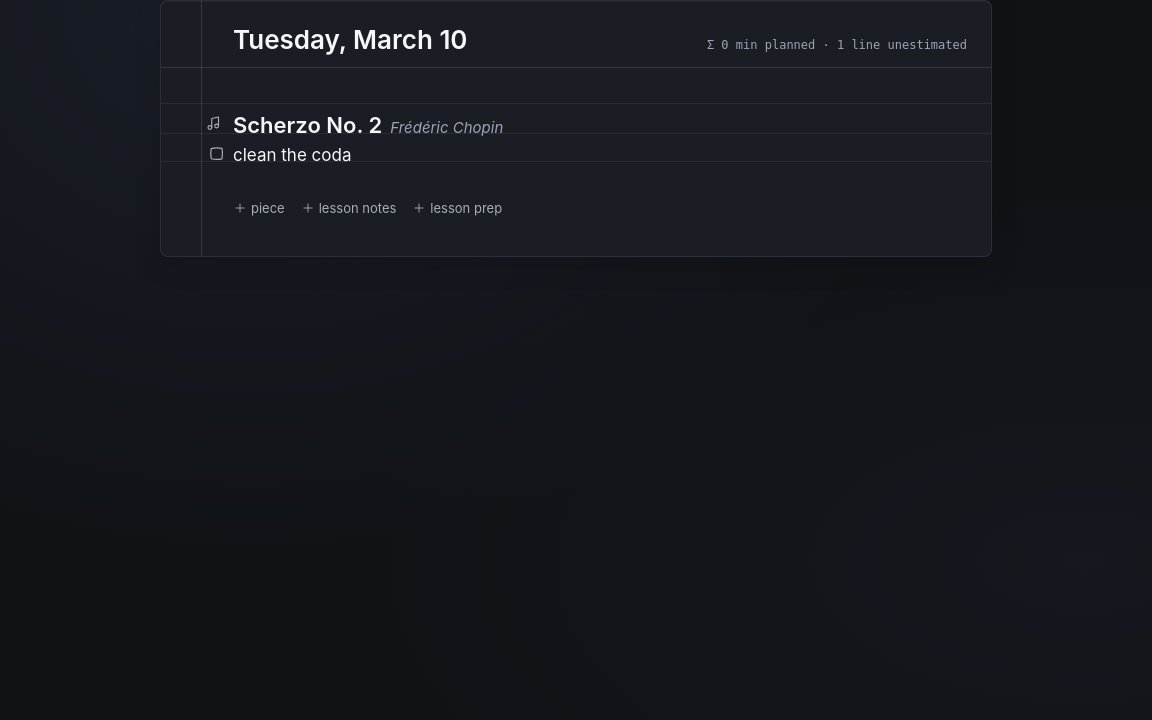
it: DaySheet — goal promotion (spec 13) › promotes a plan item via goal_create with the right args, then renders a goal_ref
Step 1. Focus the text box showing "clean the coda" → (600, 155), box [233,140,967,170]
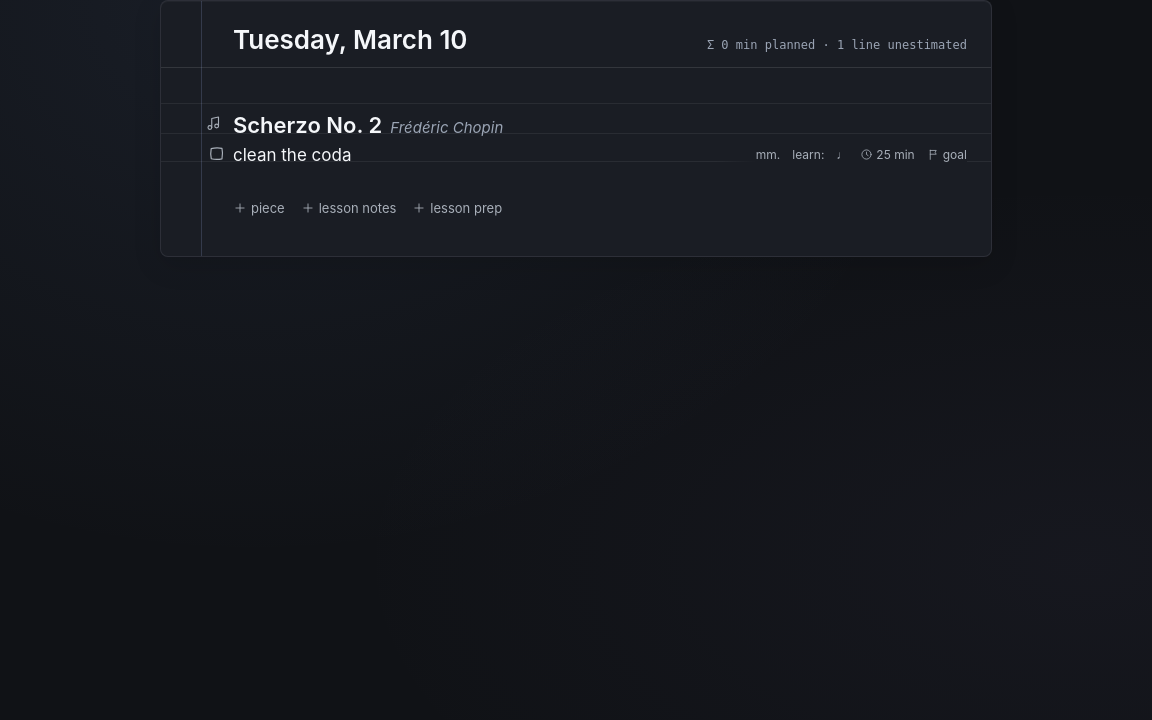
Step 2. Click the button "goal" → click(947, 155), box [927,148,967,161]
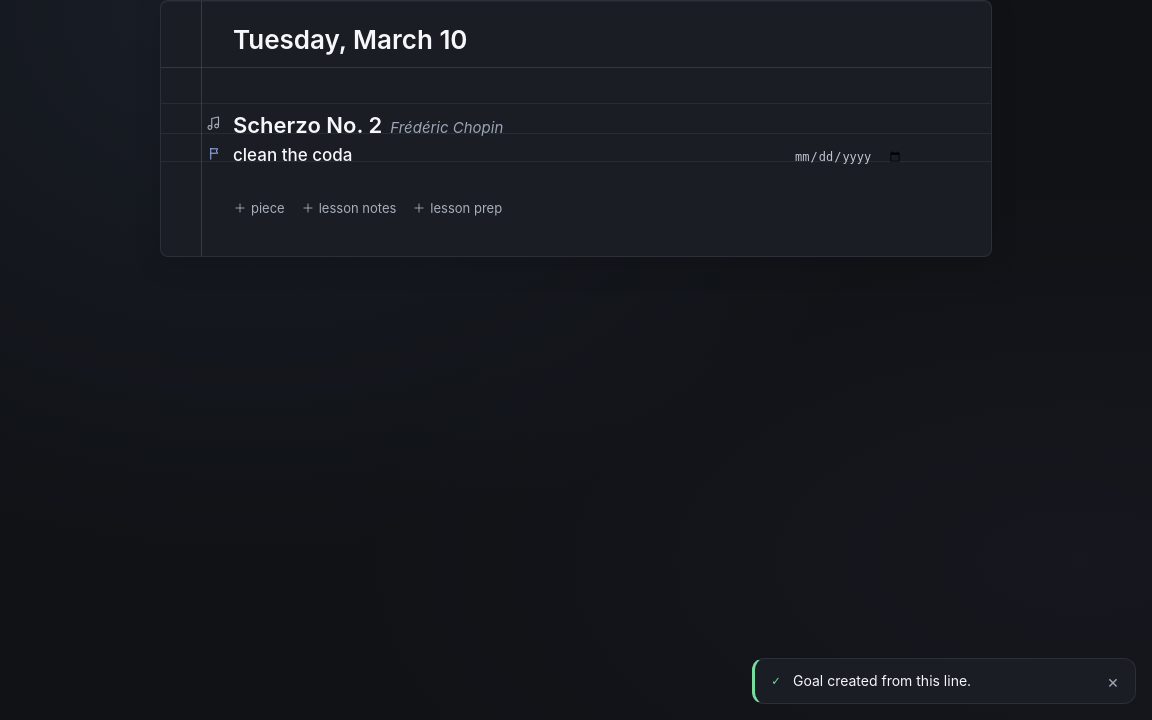
Check: the field named "Goal" holds "clean the coda", box [233,140,786,170]
Check: the date field named "Goal deadline" is shown, box [794,149,903,165]
Check: the checkbox is gone
